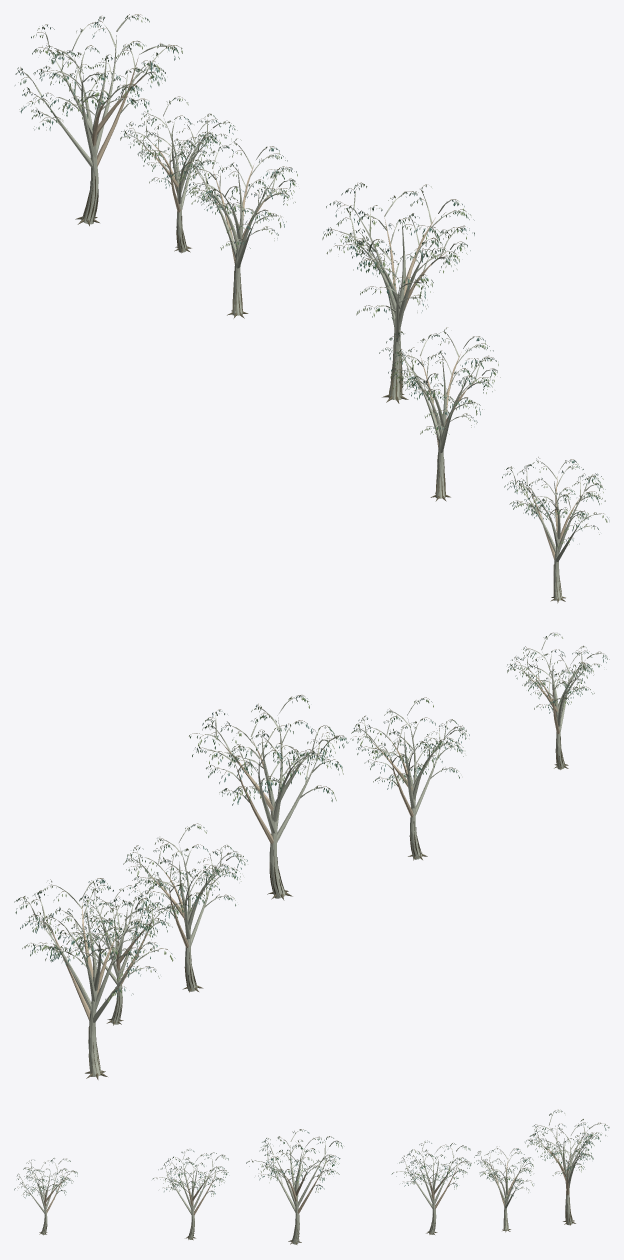
The model's file is ecology-eucalyptus-mid-9.glb.
3 renders of one model, top to bottom at view 1: azimuth 30°, elevation 25°; view 2: azimuth 150°, elevation 25°; view 3: azimuth 270°, elevation 25°, orthographic. The views are drawn at different scales.
Parts seen in each view (by area): view 1: eucalyptus-mid-89, eucalyptus-mid-93, eucalyptus-mid-91, eucalyptus-mid-94, eucalyptus-mid-90, eucalyptus-mid-95; view 2: eucalyptus-mid-93, eucalyptus-mid-89, eucalyptus-mid-91, eucalyptus-mid-94, eucalyptus-mid-90, eucalyptus-mid-95; view 3: eucalyptus-mid-93, eucalyptus-mid-89, eucalyptus-mid-91, eucalyptus-mid-94, eucalyptus-mid-90, eucalyptus-mid-95.
Part boxes in pixels (box(x1,y1,x2,y2)): eucalyptus-mid-89: box(15, 14, 182, 226); eucalyptus-mid-93: box(322, 182, 474, 403); eucalyptus-mid-91: box(172, 138, 297, 318); eucalyptus-mid-94: box(379, 327, 500, 501); eucalyptus-mid-90: box(120, 96, 237, 253); eucalyptus-mid-95: box(502, 457, 609, 603); eucalyptus-mid-93: box(189, 695, 348, 900); eucalyptus-mid-89: box(14, 878, 175, 1079); eucalyptus-mid-91: box(123, 823, 247, 992); eucalyptus-mid-94: box(350, 697, 469, 860); eucalyptus-mid-90: box(58, 881, 182, 1025); eucalyptus-mid-95: box(507, 632, 609, 769); eucalyptus-mid-93: box(246, 1129, 342, 1244); eucalyptus-mid-89: box(525, 1109, 609, 1225); eucalyptus-mid-91: box(391, 1140, 471, 1234); eucalyptus-mid-94: box(152, 1149, 228, 1240); eucalyptus-mid-90: box(474, 1146, 533, 1232); eucalyptus-mid-95: box(14, 1158, 77, 1235).
Bounding box in the file's own units: 17.17 × 16.77 × 77.33.
